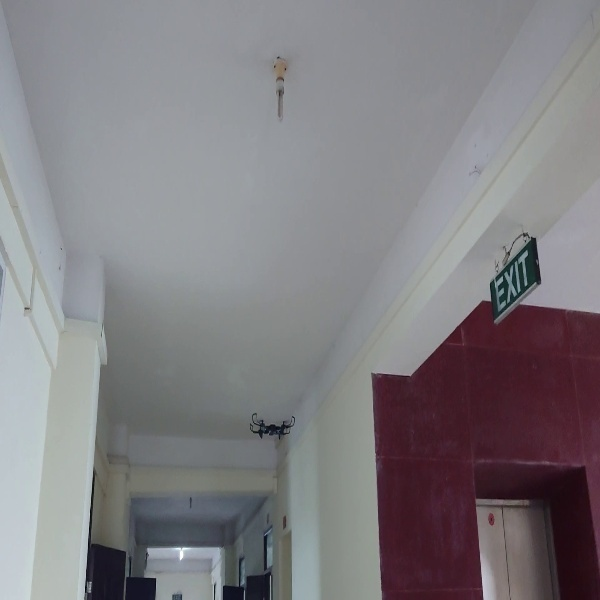drone: (244, 406, 298, 443)
